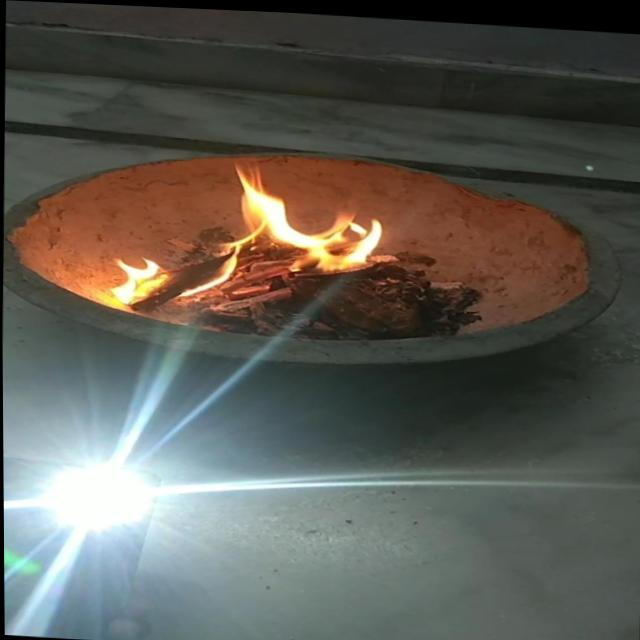fire: (214, 163, 395, 275), (98, 251, 167, 307)
